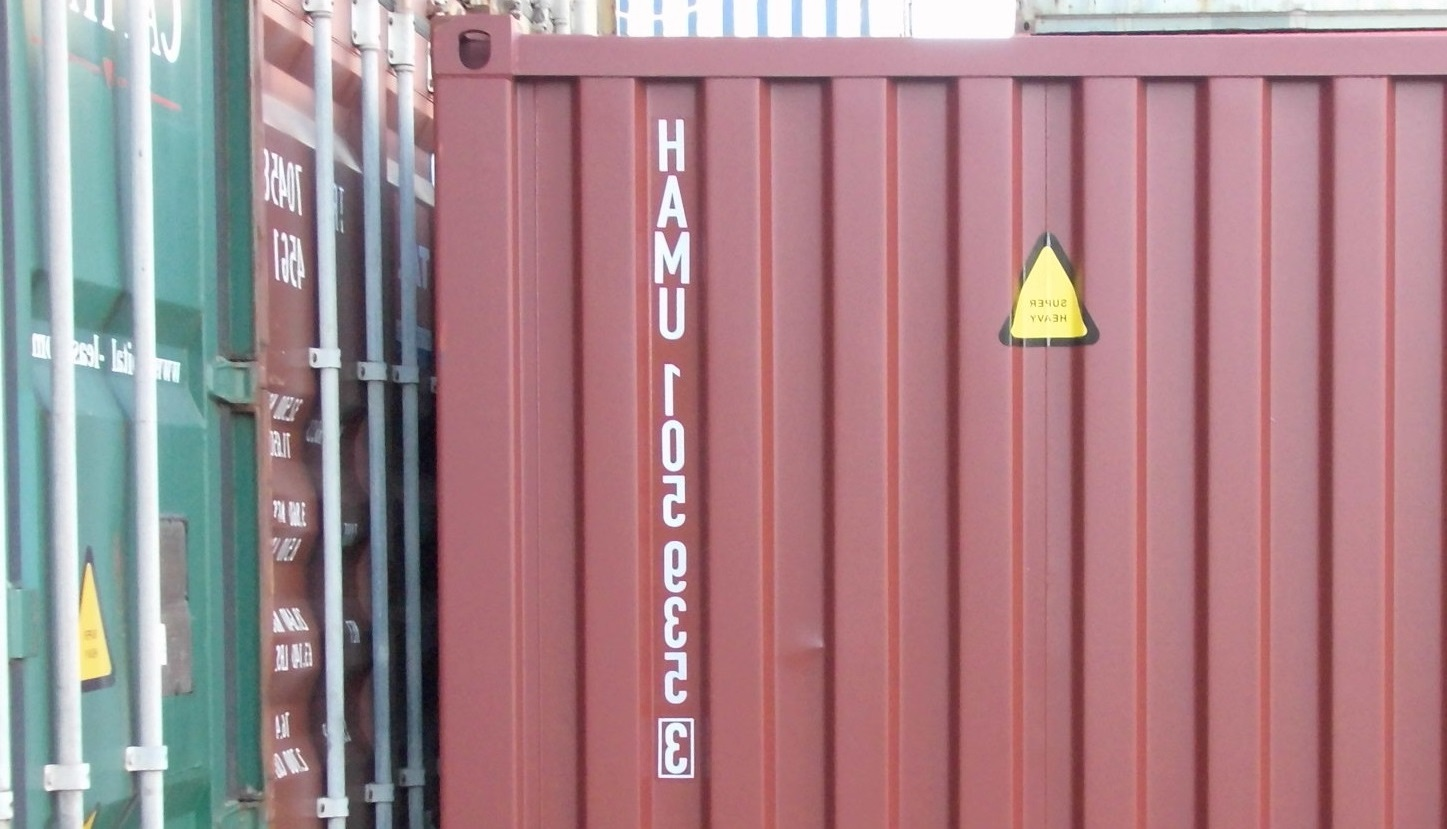container_no_door: (420, 22, 1440, 829)
